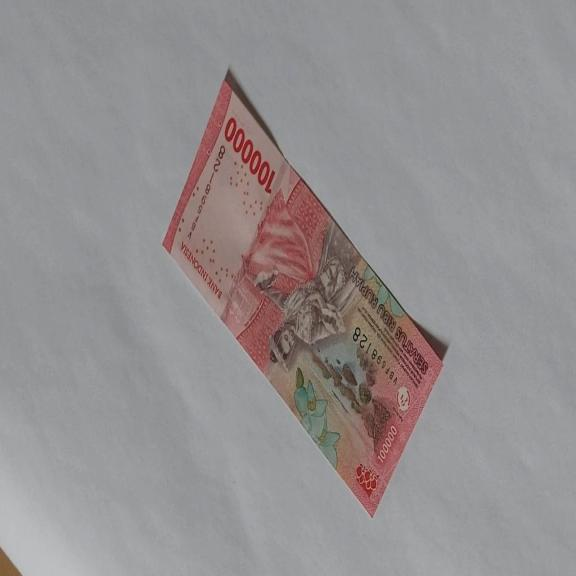Kertas: (162, 66, 446, 518), (224, 115, 276, 194)
